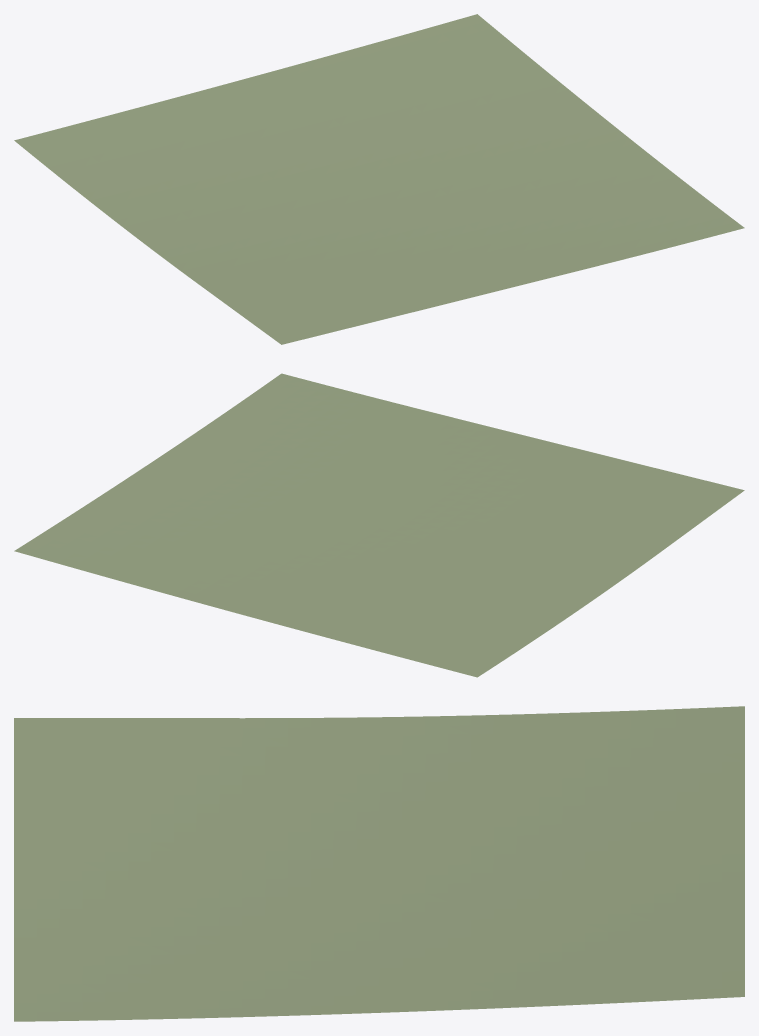
The model's file is desert-8-19.glb.
The picture shows the model from 3 angles, top to bottom: view 1: azimuth 30°, elevation 25°; view 2: azimuth 150°, elevation 25°; view 3: azimuth 270°, elevation 25°; orthographic projection. The views are drawn at different scales.
Parts seen in each view (by area): view 1: desert-8-19; view 2: desert-8-19; view 3: desert-8-19.
Part boxes in pixels (left/top/right/bottom): desert-8-19: left=14, top=14, right=744, bottom=344; desert-8-19: left=14, top=373, right=744, bottom=677; desert-8-19: left=14, top=706, right=744, bottom=1021.
Size of the model in its own units: 512 by 23.31 by 512.
